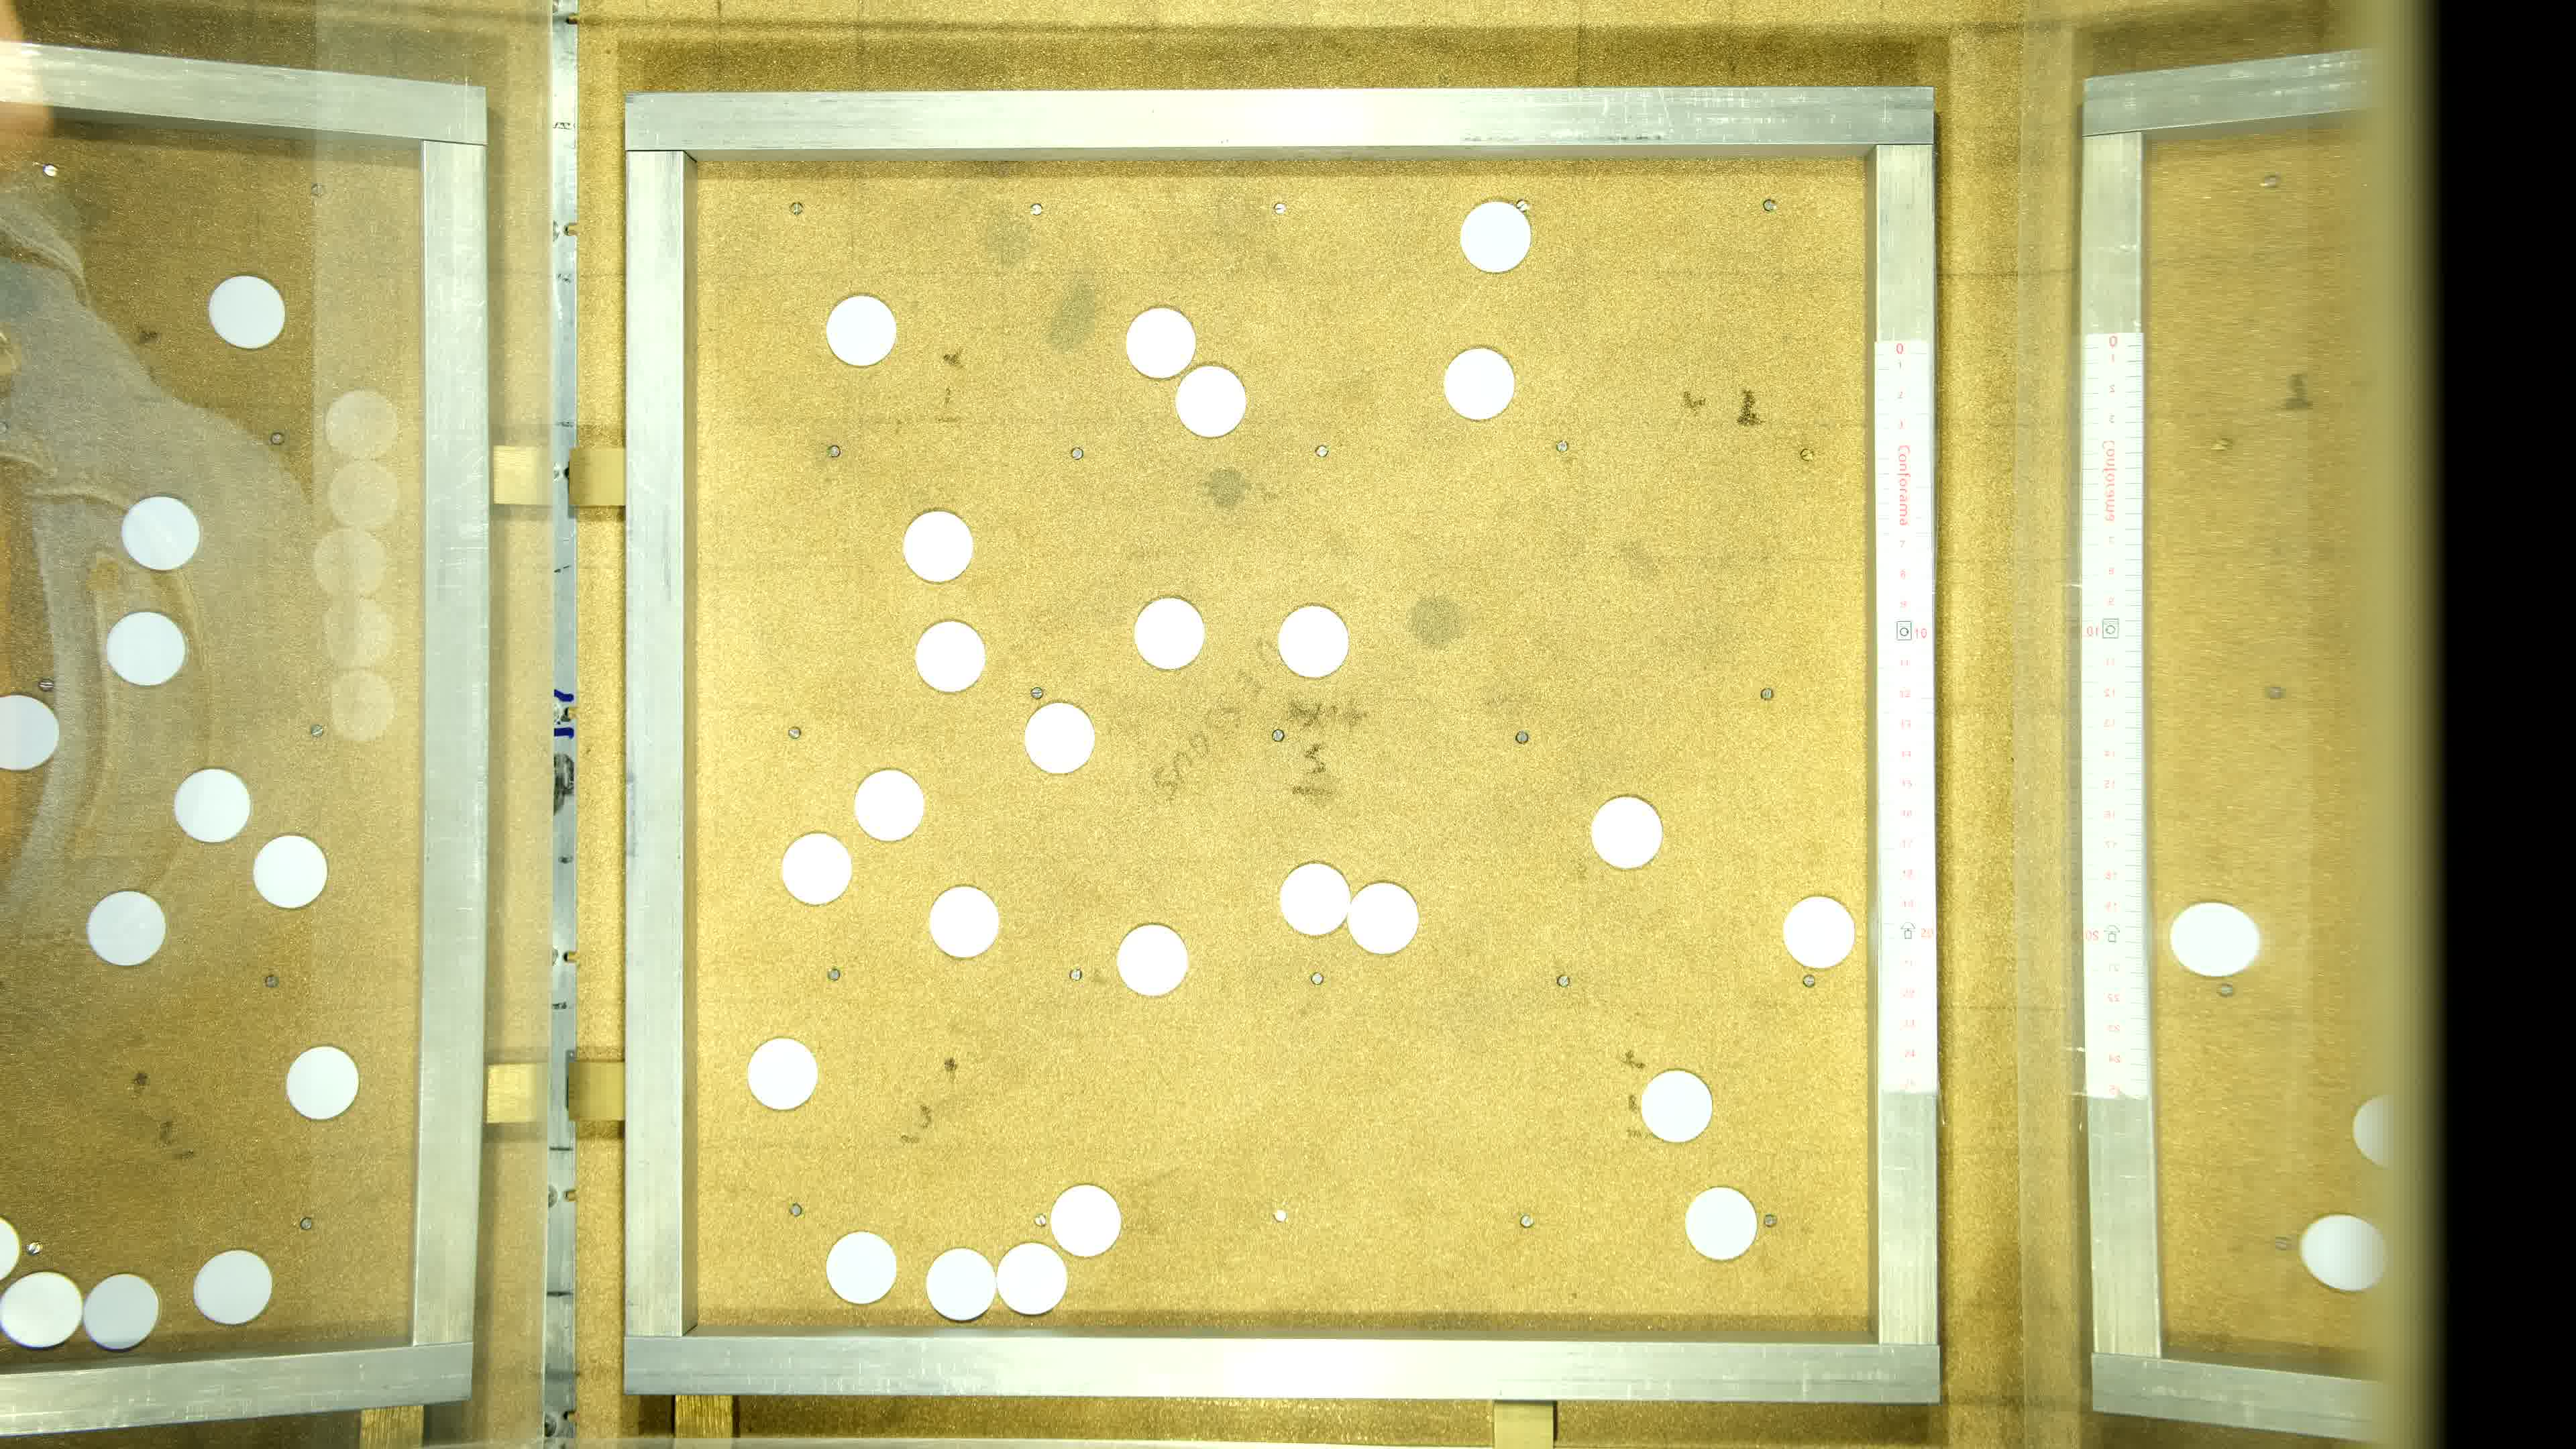pallet: (1051, 1187, 1122, 1272), (924, 1240, 994, 1325), (826, 1226, 897, 1311), (745, 1035, 816, 1120), (777, 828, 847, 913), (913, 623, 984, 708), (906, 506, 977, 591), (824, 295, 895, 380), (1123, 299, 1194, 384), (1445, 341, 1516, 426), (1118, 913, 1189, 998), (1277, 853, 1348, 938), (1346, 872, 1417, 957), (1787, 892, 1858, 977), (1591, 787, 1661, 872), (1684, 1173, 1755, 1258), (1644, 1063, 1714, 1148), (996, 1238, 1067, 1322), (1026, 697, 1097, 780), (1134, 594, 1205, 678), (1175, 361, 1246, 444), (1277, 596, 1348, 679), (853, 768, 922, 853), (932, 872, 1001, 957), (1458, 198, 1527, 283)
